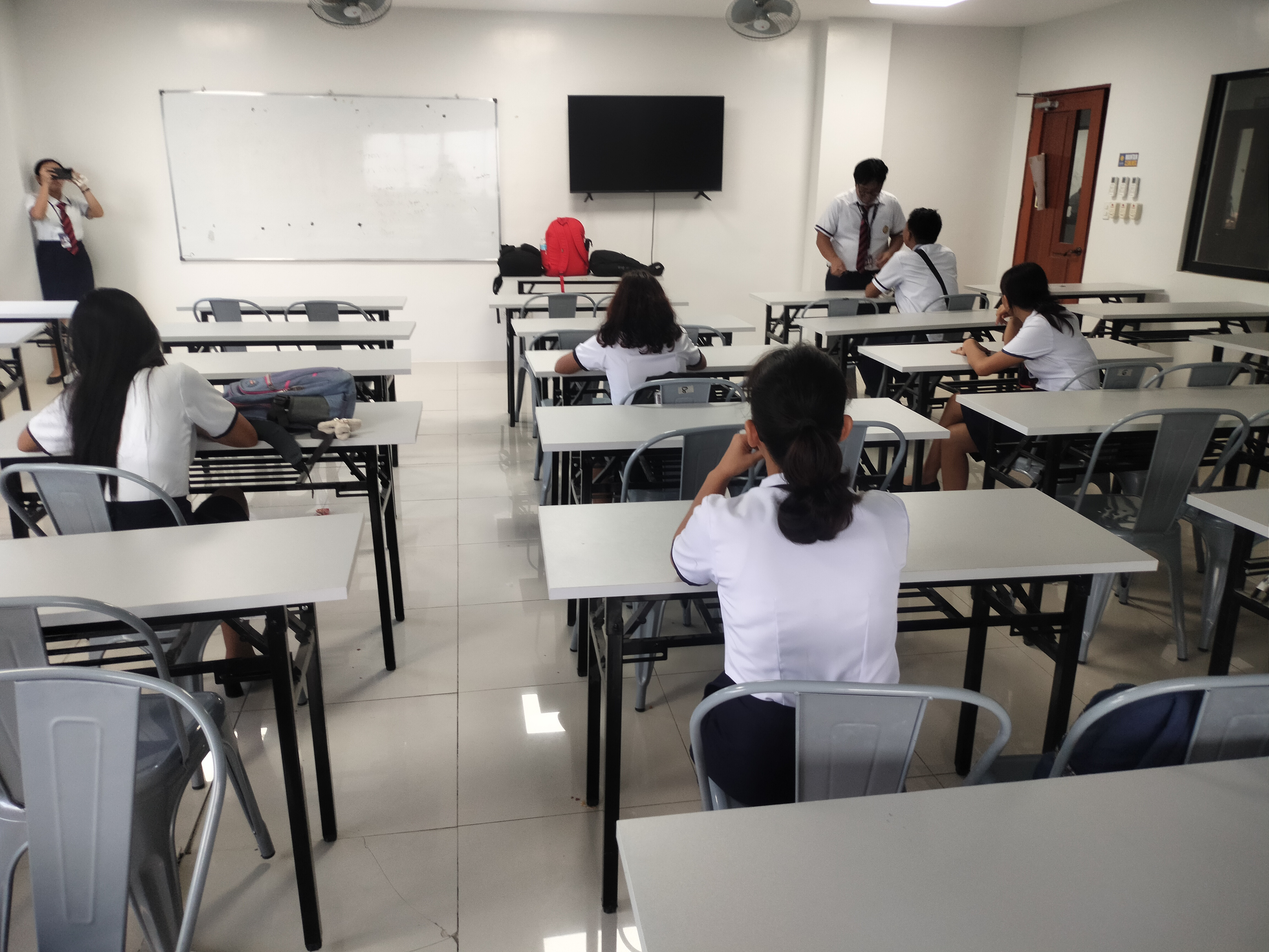with-student: (530, 341, 1156, 801), (0, 285, 424, 540), (854, 262, 1171, 404), (521, 268, 829, 411), (747, 207, 978, 318)
